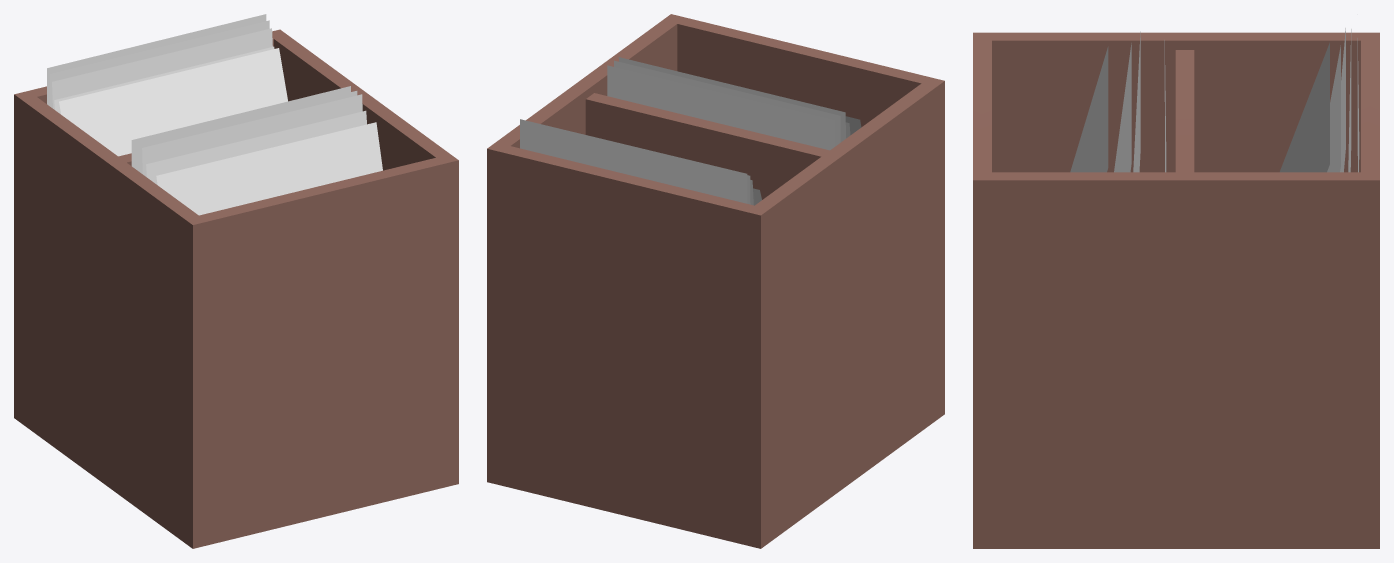
File: Archivos.obj
3 views of the same model, side by side, from view 1: azimuth 30°, elevation 25°; view 2: azimuth 150°, elevation 25°; view 3: azimuth 270°, elevation 25° (orthographic). The views are drawn at different scales.
Visible parts, largest first — view 1: box_001; view 2: box_001; view 3: box_001.
Part boxes in pixels (x1=…): box_001: x1=14, y1=14, x2=458, y2=548; box_001: x1=487, y1=14, x2=944, y2=548; box_001: x1=973, y1=28, x2=1379, y2=548.
Size of the model in its own units: 0.2624 by 0.3314 by 0.3054.
Materials: 1 (1 with a texture image).
